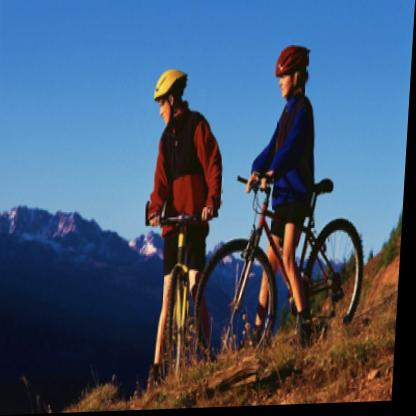With Helmet: (153, 63, 191, 128), (276, 42, 314, 102)
